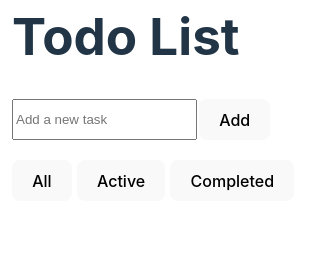
Test case: TodoApp › adds a new todo
Type "New Task" into the field with test id "addNewTask" at [104, 120], box [12,99,197,140]
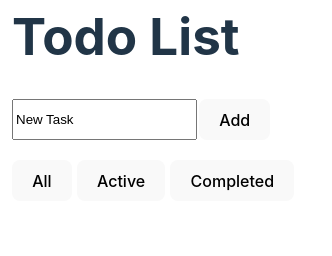
Click the button "Add" at [235, 120], box [199,99,270,140]
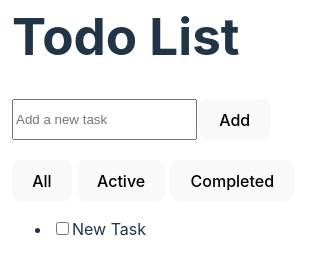
Expected: the list item "New Task" is shown, [56,219,146,239]
